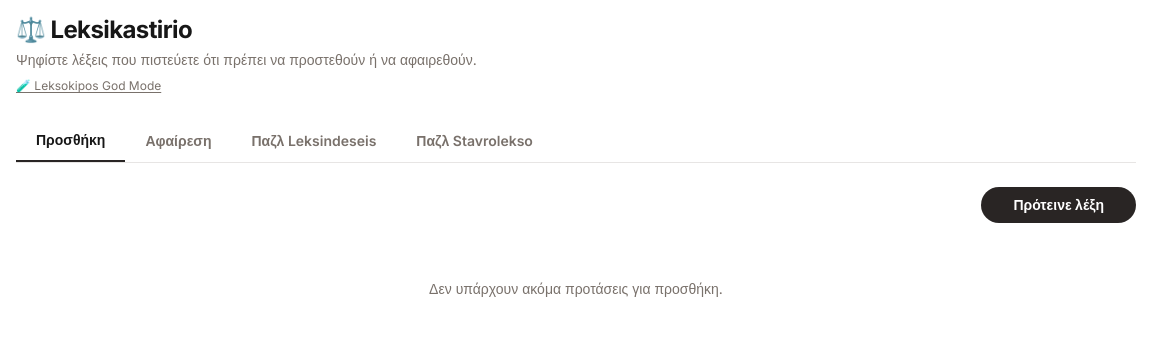
Test case: CommunityQueueCard — per-game bodies › leksindeseis shows each group's category and words
Click the button "Παζλ Leksindeseis".
click(314, 141)  # box x1=232 y1=120 x2=396 y2=162
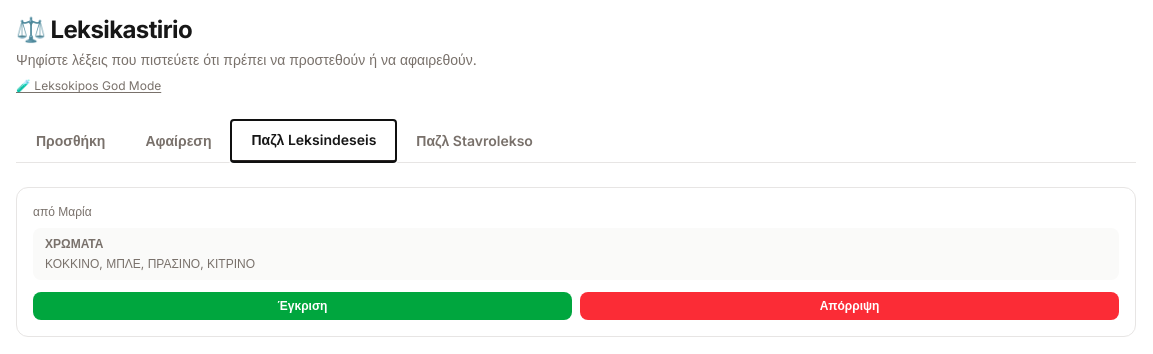
expect the text "από Μαρία" is shown: met, box x1=33 y1=204 x2=92 y2=219
expect the text "ΧΡΩΜΑΤΑ" is shown: met, box x1=45 y1=236 x2=103 y2=251
expect the text "ΚΟΚΚΙΝΟ, ΜΠΛΕ, ΠΡΑΣΙΝΟ, ΚΙΤΡΙΝΟ" is shown: met, box x1=45 y1=256 x2=255 y2=271
